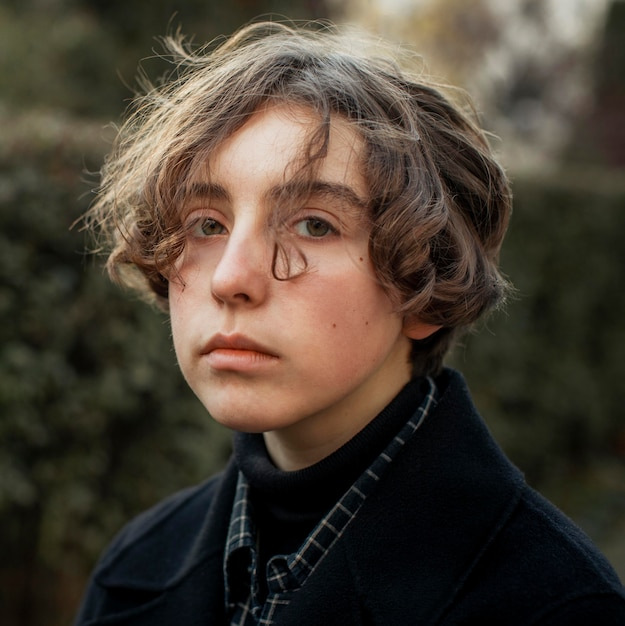teen: (129, 54, 442, 421)
